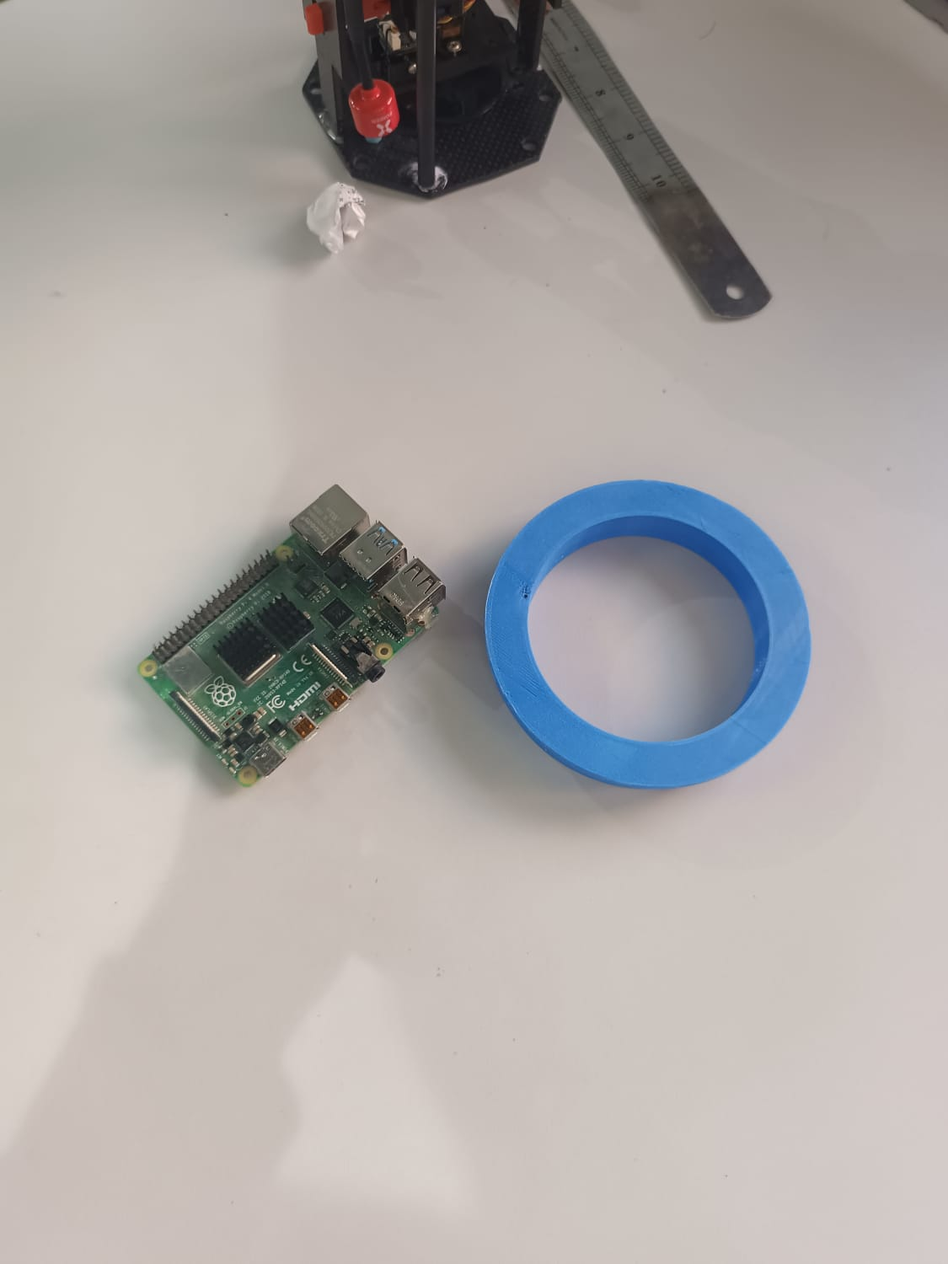Circle: (470, 468, 829, 799)
